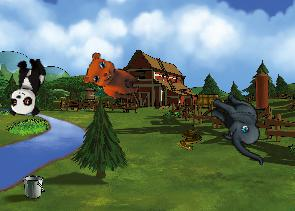bear: (80, 50, 145, 102)
elephant: (197, 88, 282, 166)
panda: (7, 55, 47, 118)
